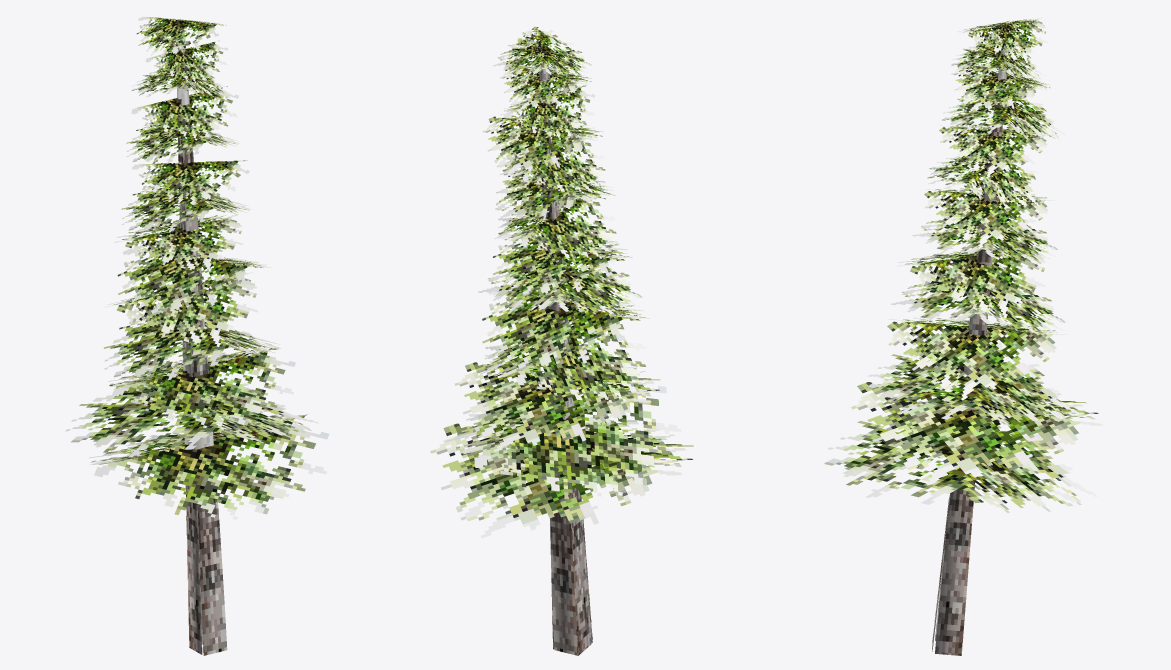
The model's file is Environment - Vegetation - Tree Burned Stump - PTPine04_s2.glb.
3 views of the same model, side by side, from view 1: azimuth 30°, elevation 25°; view 2: azimuth 150°, elevation 25°; view 3: azimuth 270°, elevation 25° (orthographic). The views are drawn at different scales.
Visible parts, largest first — view 1: PTPINE04_S2; view 2: PTPINE04_S2; view 3: PTPINE04_S2.
Boxes of the visible parts, bbox=[...] form: PTPINE04_S2: bbox=[65, 16, 329, 655]; PTPINE04_S2: bbox=[430, 26, 693, 655]; PTPINE04_S2: bbox=[824, 17, 1103, 655].
Bounding box in the file's own units: 24.09 × 42.94 × 24.62.
1 material, 1 textured.
